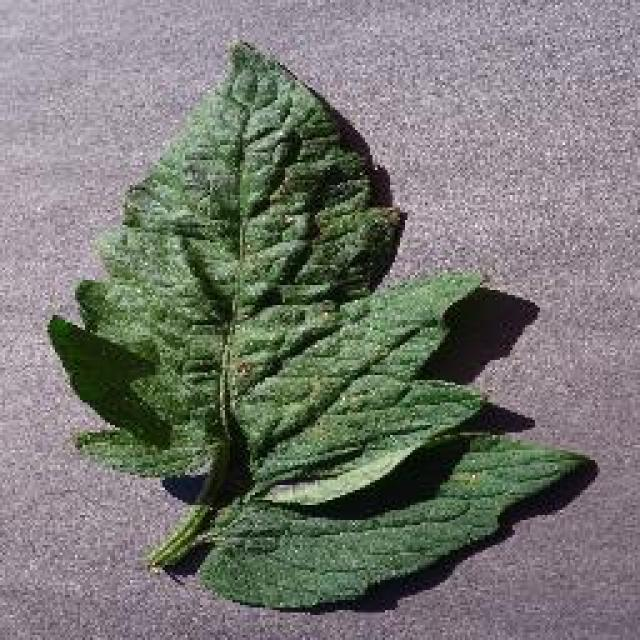Tomato Septoria spot leaf: (49, 36, 486, 502), (188, 435, 600, 607)
